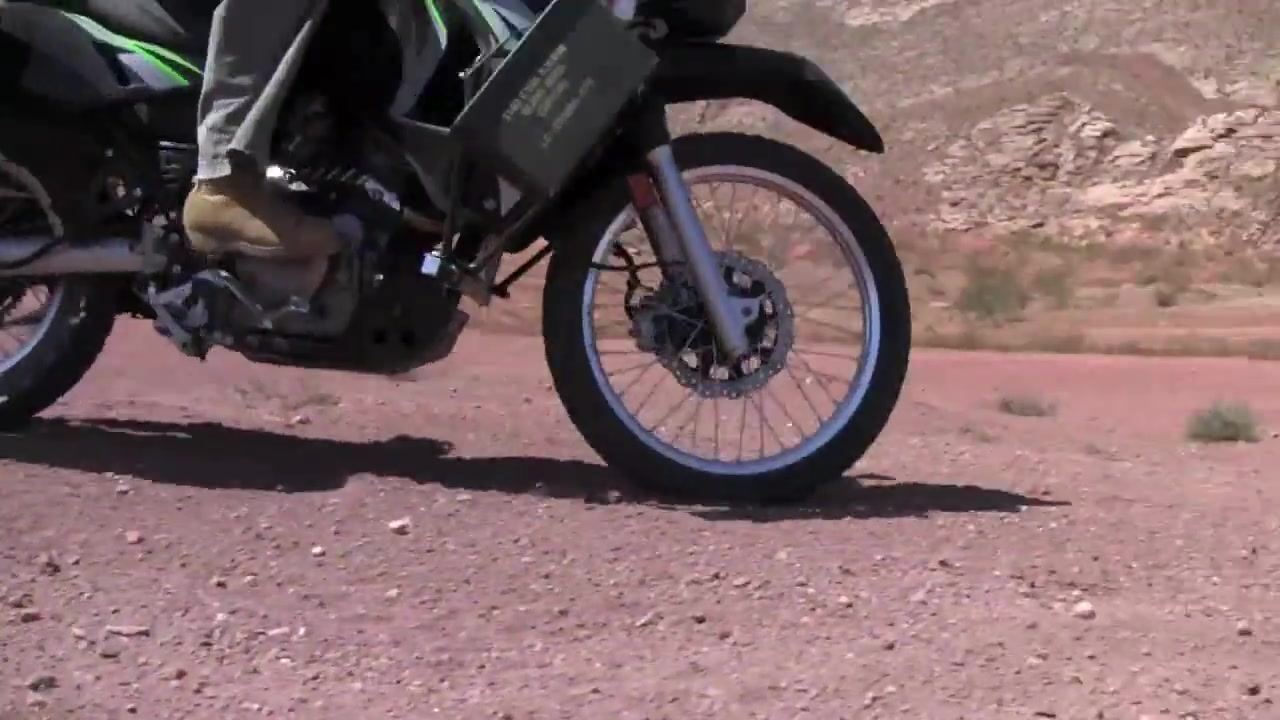motorbike: (1, 1, 914, 507)
